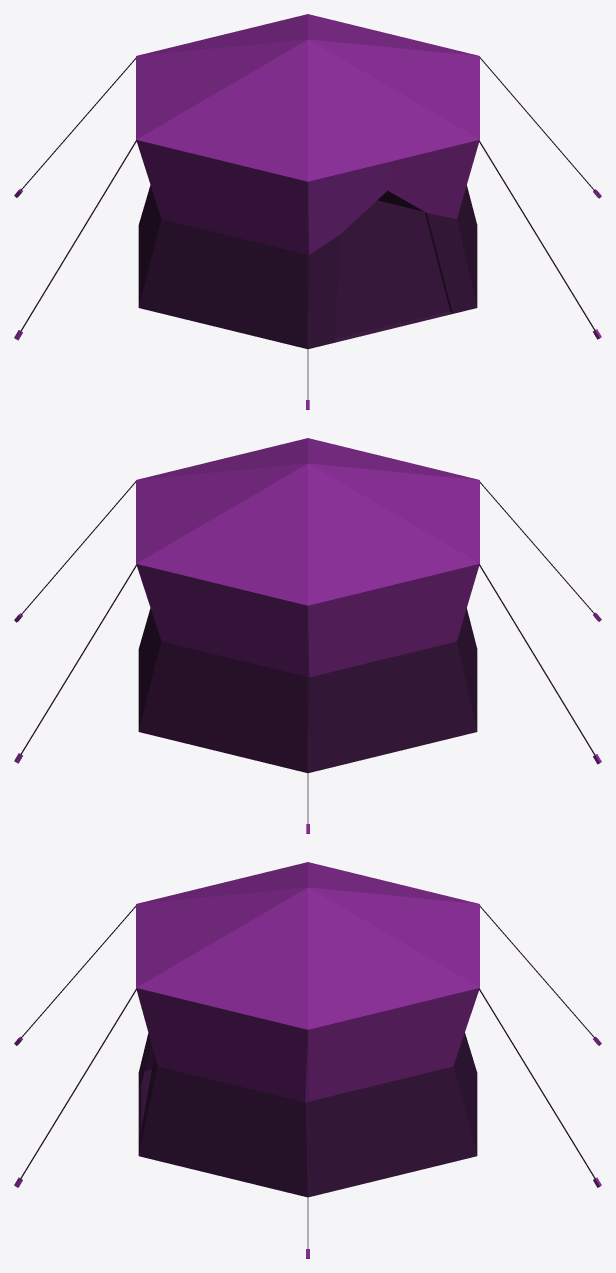
File: Tent_6_Purple.fbx
The picture shows the model from 3 angles, top to bottom: view 1: azimuth 30°, elevation 25°; view 2: azimuth 150°, elevation 25°; view 3: azimuth 270°, elevation 25°; orthographic projection.
Parts seen in each view (by area): view 1: Tent_6_Purple_Part_9, Tent_6_Purple_Part_7, Tent_6_Purple_Part_1, Tent_6_Purple_Part_11, Tent_6_Purple_Part_10, Tent_6_Purple_Part_8, Tent_6_Purple_Part_2, Tent_6_Purple_Part_12, Tent_6_Purple_Part_6, Tent_6_Purple_Part_3; view 2: Tent_6_Purple_Part_9, Tent_6_Purple_Part_6, Tent_6_Purple_Part_5, Tent_6_Purple_Part_12, Tent_6_Purple_Part_4, Tent_6_Purple_Part_7; view 3: Tent_6_Purple_Part_9, Tent_6_Purple_Part_3, Tent_6_Purple_Part_4, Tent_6_Purple_Part_12, Tent_6_Purple_Part_5.
Part boxes in pixels (x1=…): Tent_6_Purple_Part_9: x1=136, y1=14, x2=479, y2=181; Tent_6_Purple_Part_7: x1=136, y1=140, x2=309, y2=348; Tent_6_Purple_Part_1: x1=334, y1=200, x2=452, y2=342; Tent_6_Purple_Part_11: x1=387, y1=140, x2=479, y2=218; Tent_6_Purple_Part_10: x1=308, y1=161, x2=393, y2=254; Tent_6_Purple_Part_8: x1=308, y1=234, x2=340, y2=348; Tent_6_Purple_Part_2: x1=424, y1=212, x2=477, y2=313; Tent_6_Purple_Part_12: x1=14, y1=57, x2=601, y2=409; Tent_6_Purple_Part_6: x1=138, y1=185, x2=161, y2=306; Tent_6_Purple_Part_3: x1=457, y1=185, x2=477, y2=306; Tent_6_Purple_Part_9: x1=136, y1=438, x2=479, y2=605; Tent_6_Purple_Part_6: x1=308, y1=564, x2=479, y2=772; Tent_6_Purple_Part_5: x1=136, y1=564, x2=309, y2=772; Tent_6_Purple_Part_12: x1=14, y1=481, x2=601, y2=833; Tent_6_Purple_Part_4: x1=138, y1=608, x2=161, y2=730; Tent_6_Purple_Part_7: x1=457, y1=608, x2=477, y2=730; Tent_6_Purple_Part_9: x1=136, y1=862, x2=479, y2=1029; Tent_6_Purple_Part_3: x1=136, y1=988, x2=307, y2=1197; Tent_6_Purple_Part_4: x1=305, y1=988, x2=479, y2=1197; Tent_6_Purple_Part_12: x1=14, y1=906, x2=601, y2=1258; Tent_6_Purple_Part_5: x1=453, y1=1033, x2=477, y2=1154.
Bounding box in the file's own units: 1636 × 612 × 1420.
